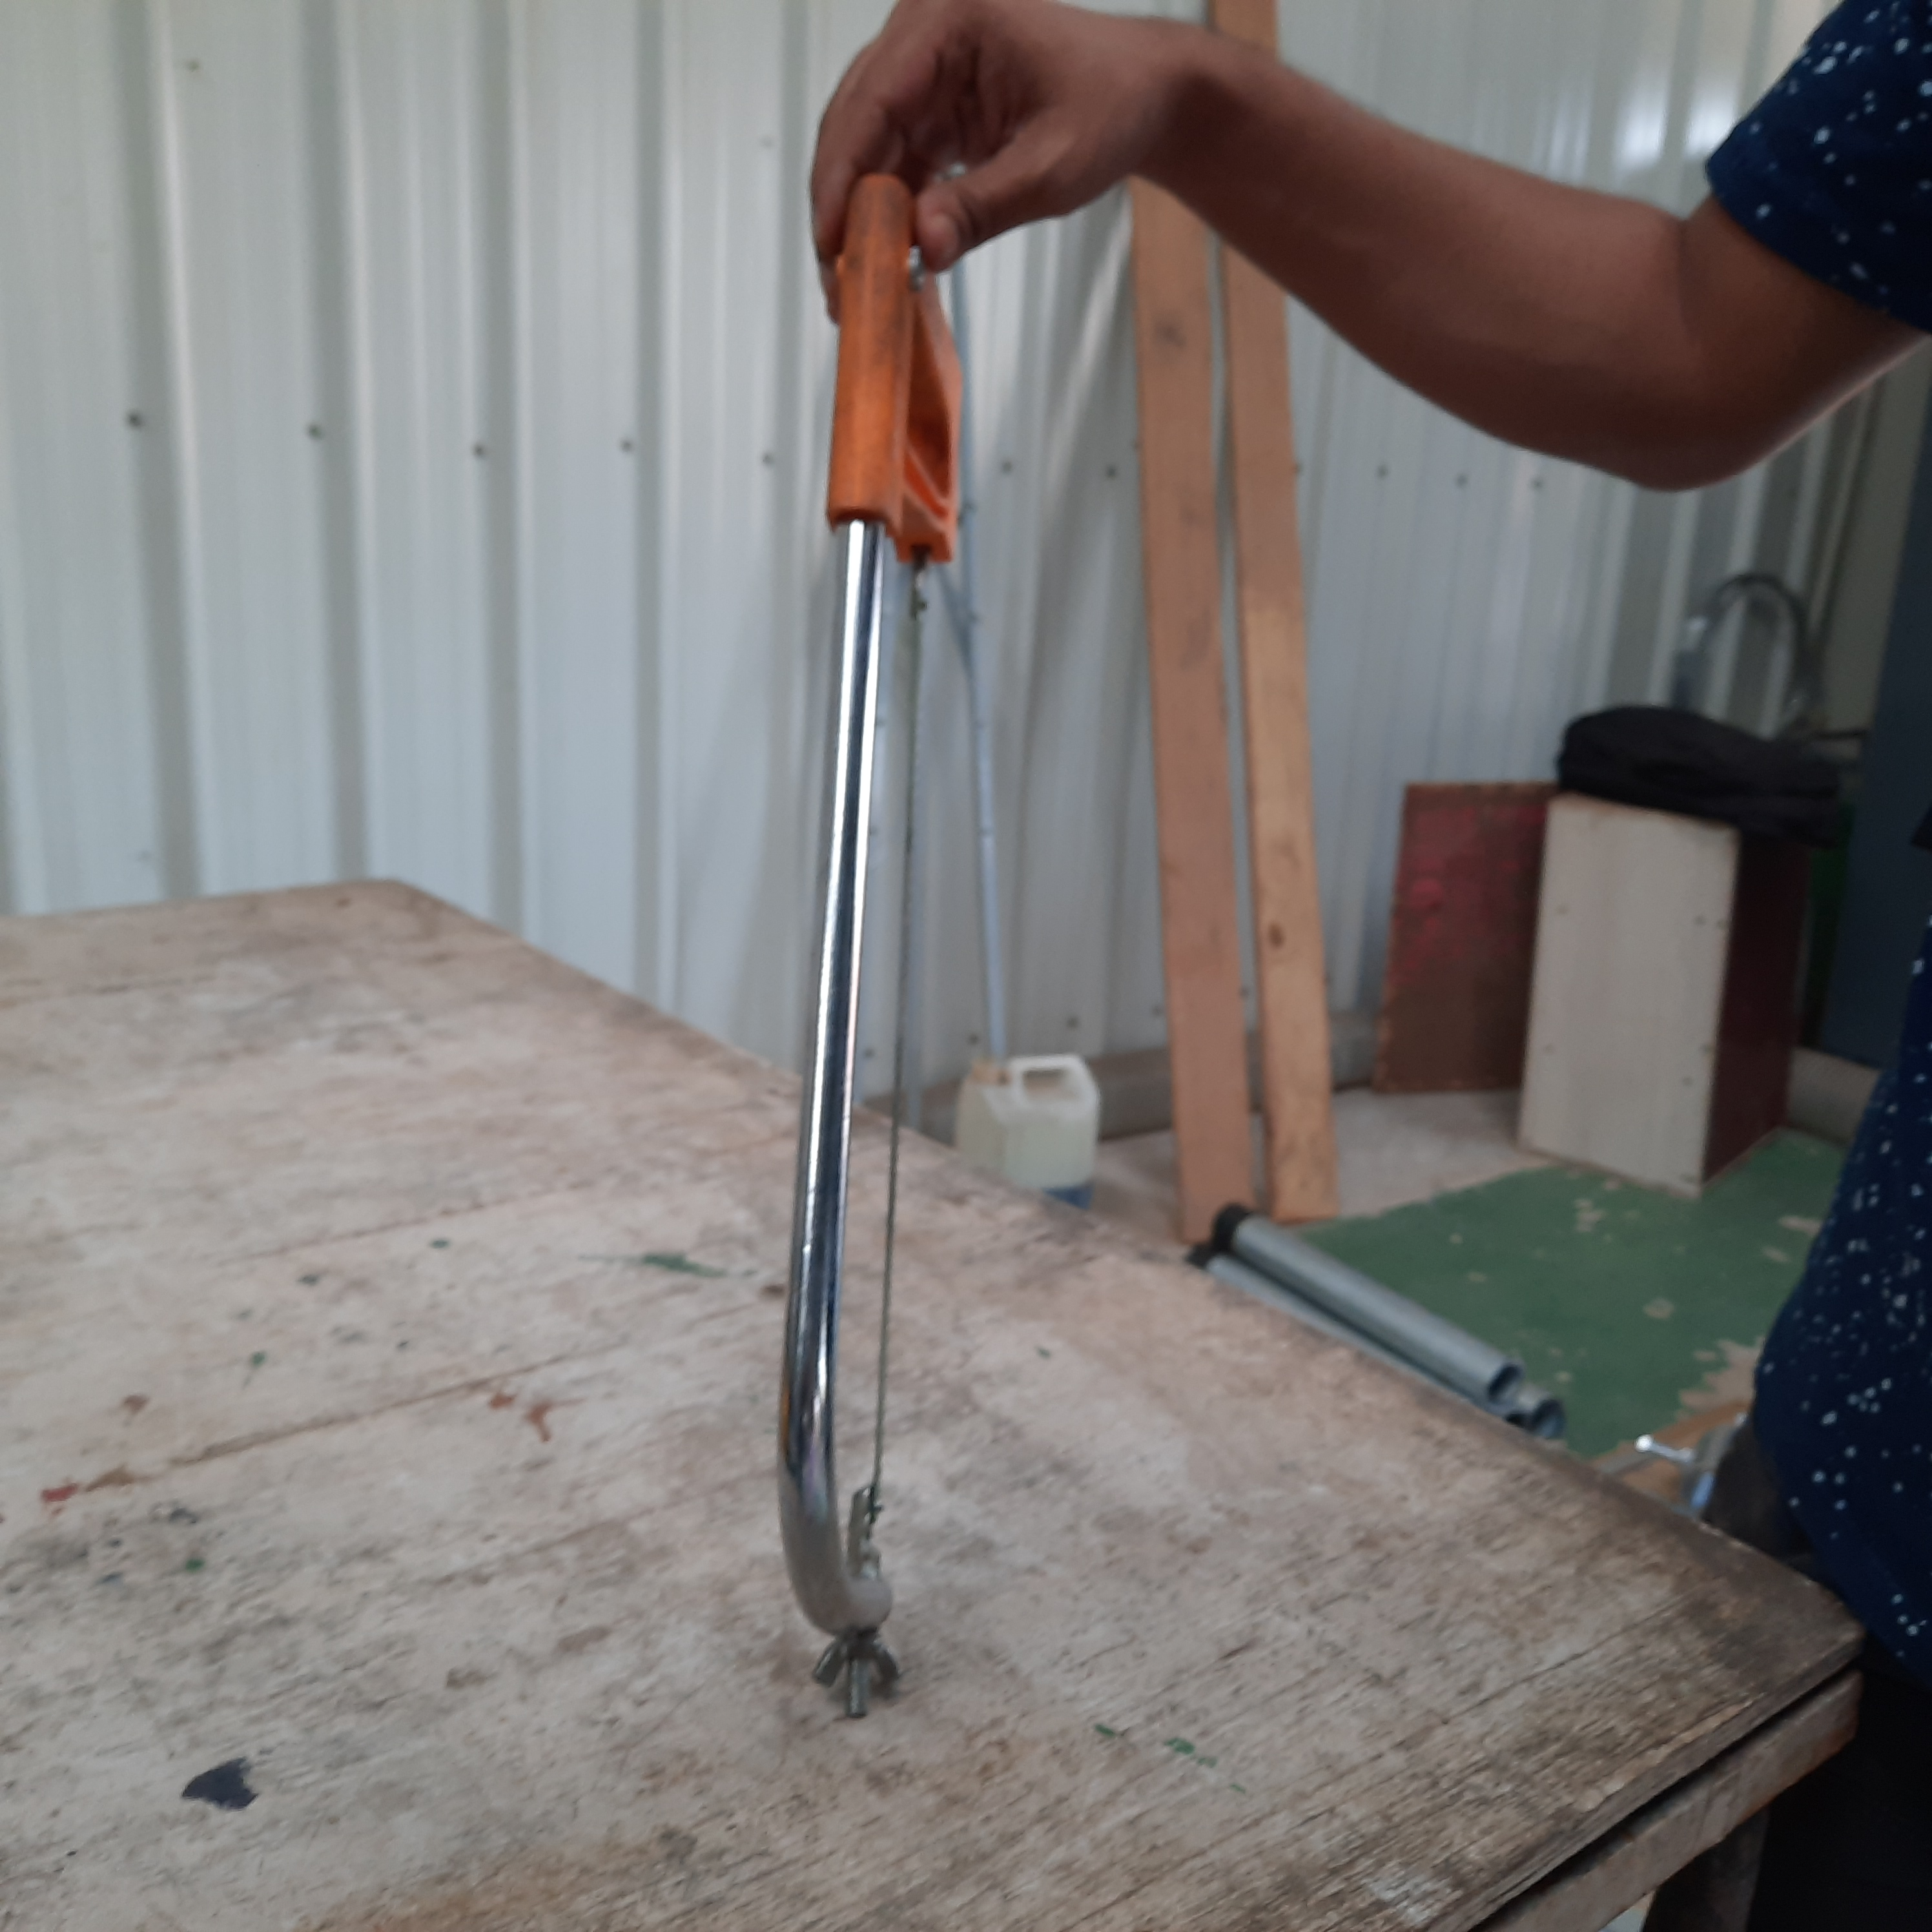Hexaframe: (722, 168, 1035, 1736)
